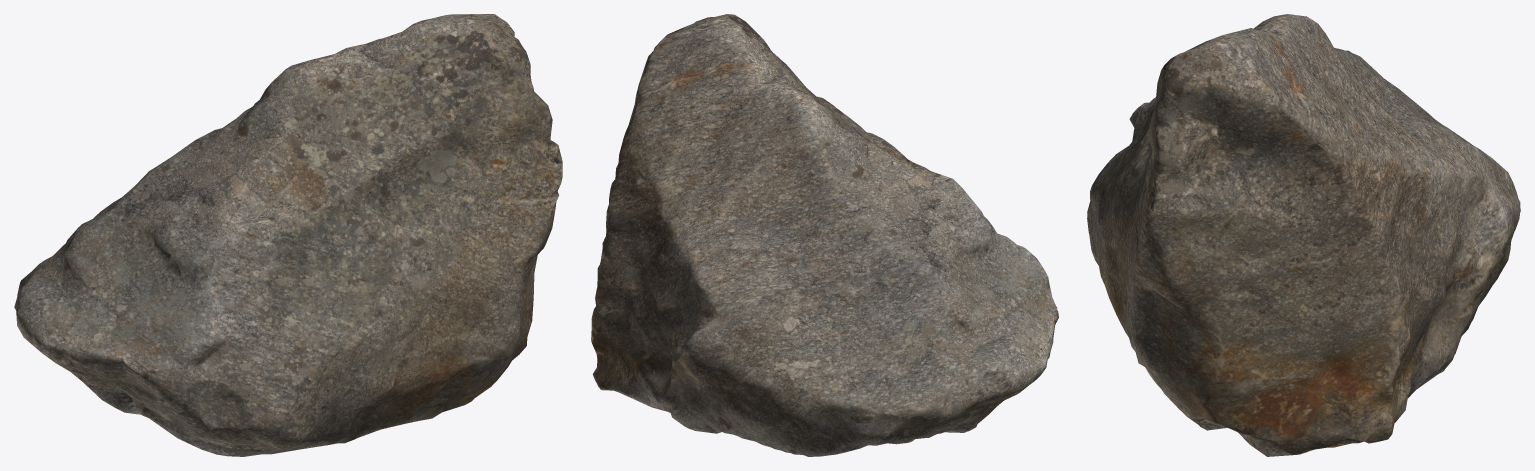
File: SM_wg0meju_tier_2.gltf
The picture shows the model from 3 angles, left to right: view 1: azimuth 30°, elevation 25°; view 2: azimuth 150°, elevation 25°; view 3: azimuth 270°, elevation 25°; orthographic projection. The views are drawn at different scales.
Parts seen in each view (by area): view 1: wg0meju_LOD2_TIER2_000; view 2: wg0meju_LOD2_TIER2_000; view 3: wg0meju_LOD2_TIER2_000.
Part boxes in pixels (x1,y1,x2,y2): wg0meju_LOD2_TIER2_000: (14, 14, 562, 456); wg0meju_LOD2_TIER2_000: (591, 14, 1058, 456); wg0meju_LOD2_TIER2_000: (1087, 14, 1520, 456).
Bounding box in the file's own units: 1.68 × 1.33 × 1.33.
Materials: 1 (1 with a texture image).
